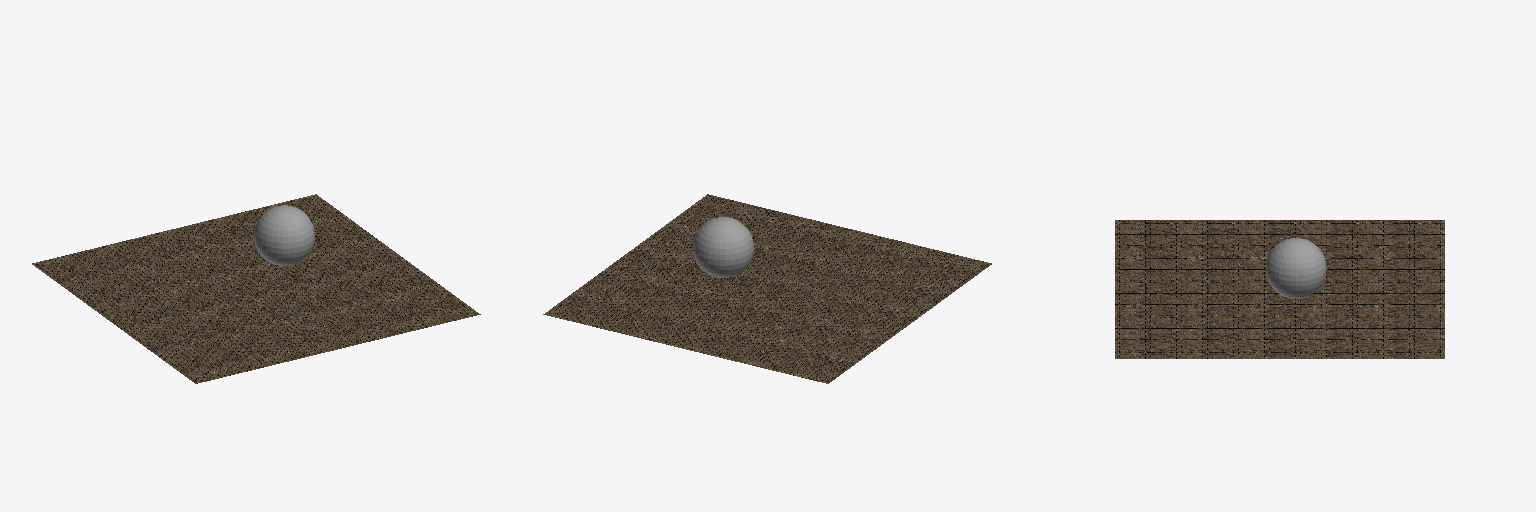
3 views of the same model, side by side, from view 1: azimuth 30°, elevation 25°; view 2: azimuth 150°, elevation 25°; view 3: azimuth 270°, elevation 25° (orthographic).
Visible parts, largest first — view 1: Plane, Sphere_Sphere.002; view 2: Plane, Sphere_Sphere.002; view 3: Plane, Sphere_Sphere.002.
Part boxes in pixels (bbox=[...]): Plane: bbox=[32, 194, 480, 383]; Sphere_Sphere.002: bbox=[254, 205, 314, 265]; Plane: bbox=[543, 194, 991, 383]; Sphere_Sphere.002: bbox=[693, 217, 753, 277]; Plane: bbox=[1115, 220, 1444, 358]; Sphere_Sphere.002: bbox=[1265, 238, 1326, 298].
Bounding box in the file's own units: 4.8 × 1.07 × 4.8.
2 materials, 1 textured.